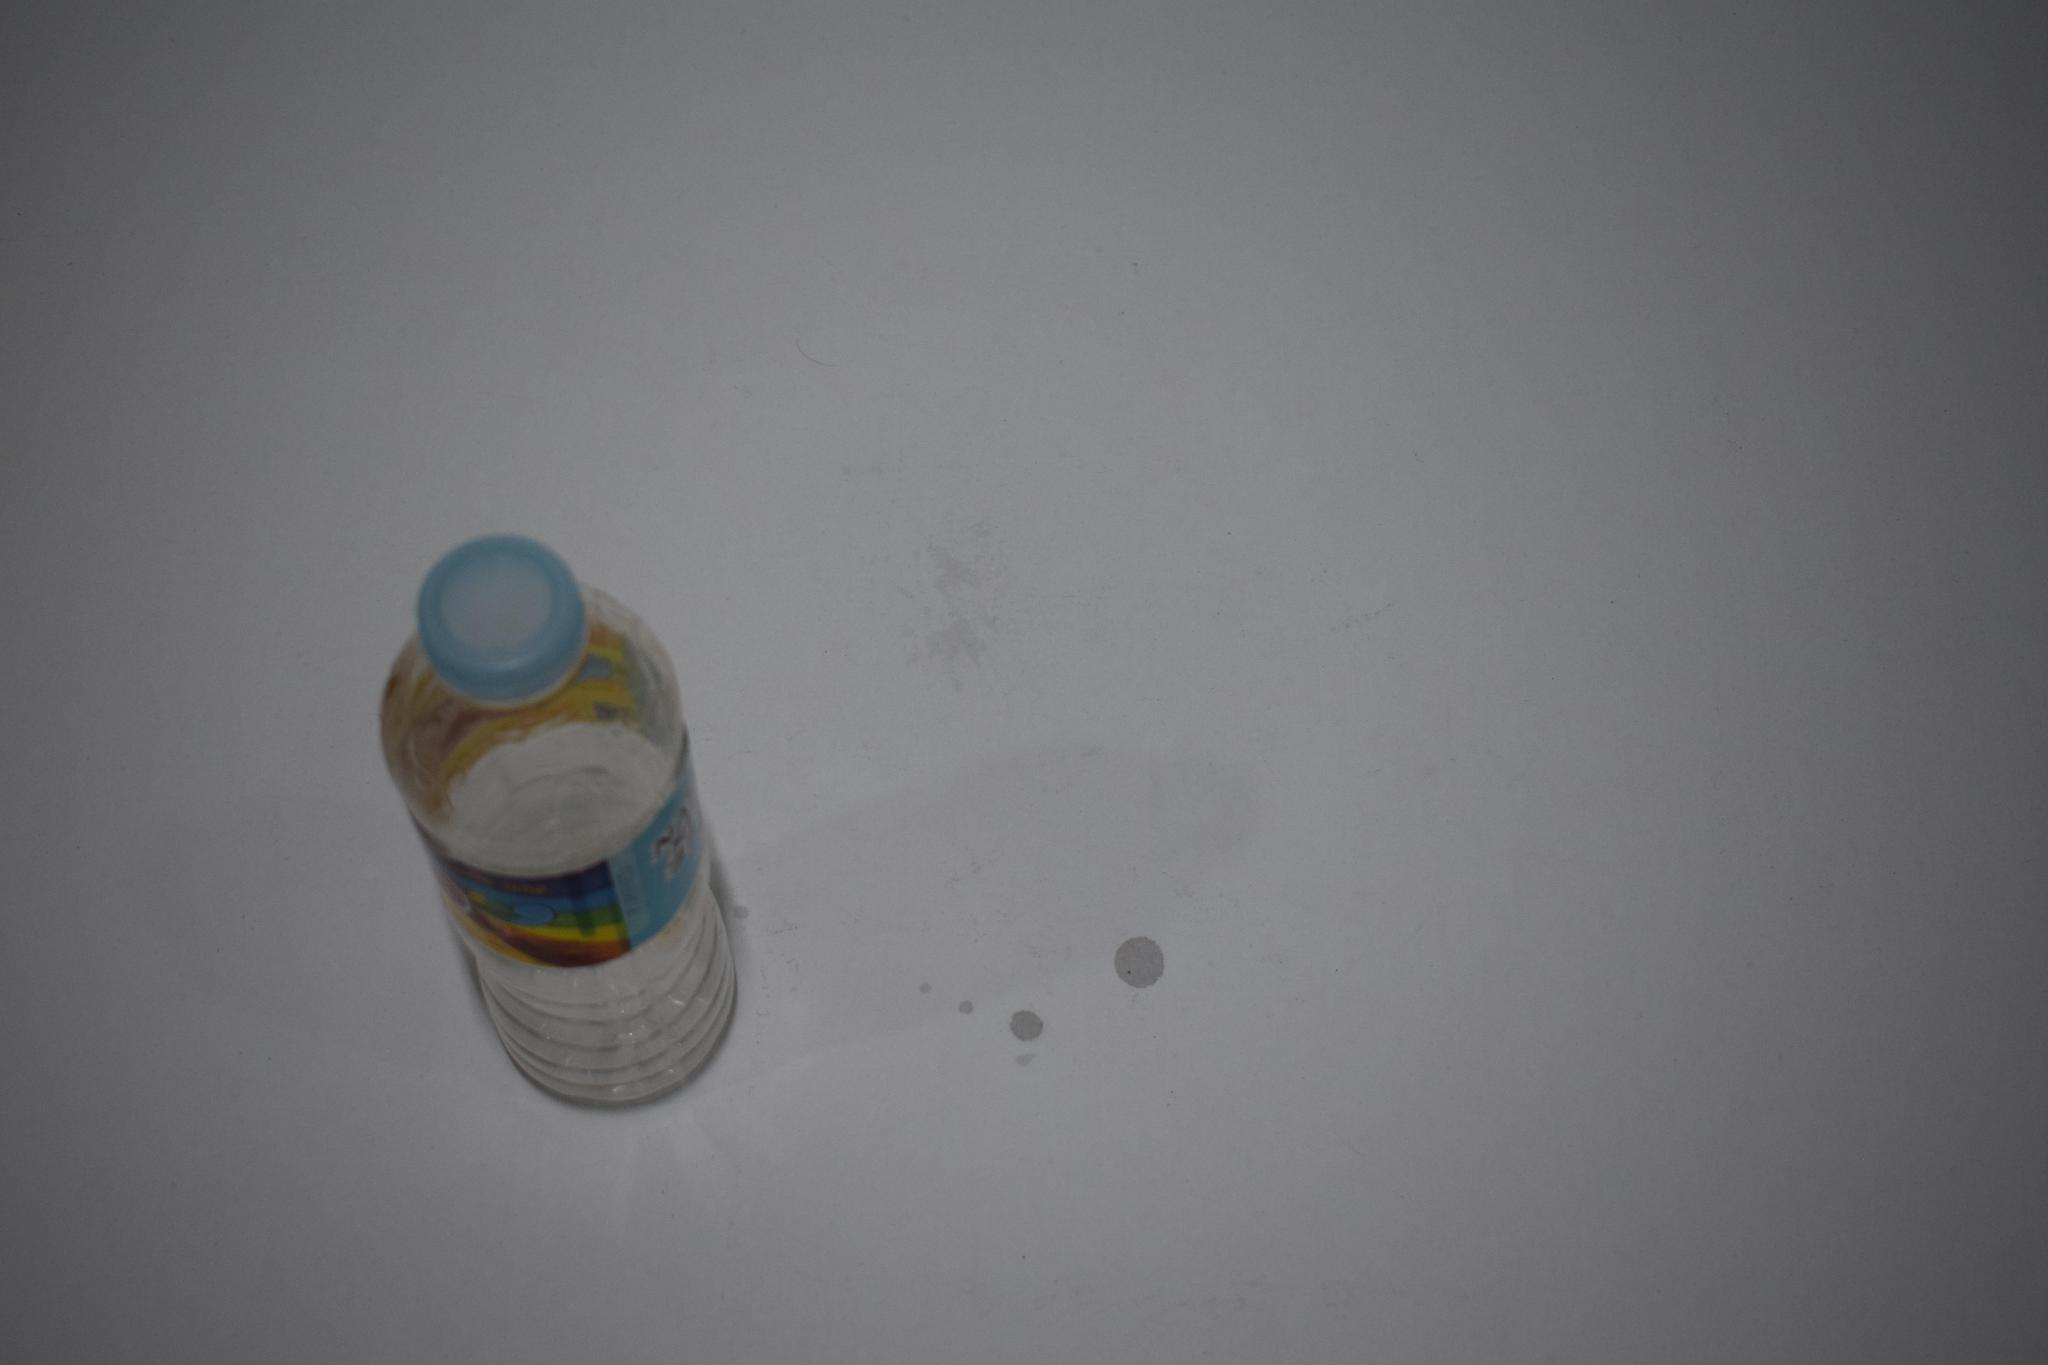bottle: (369, 529, 751, 1118)
